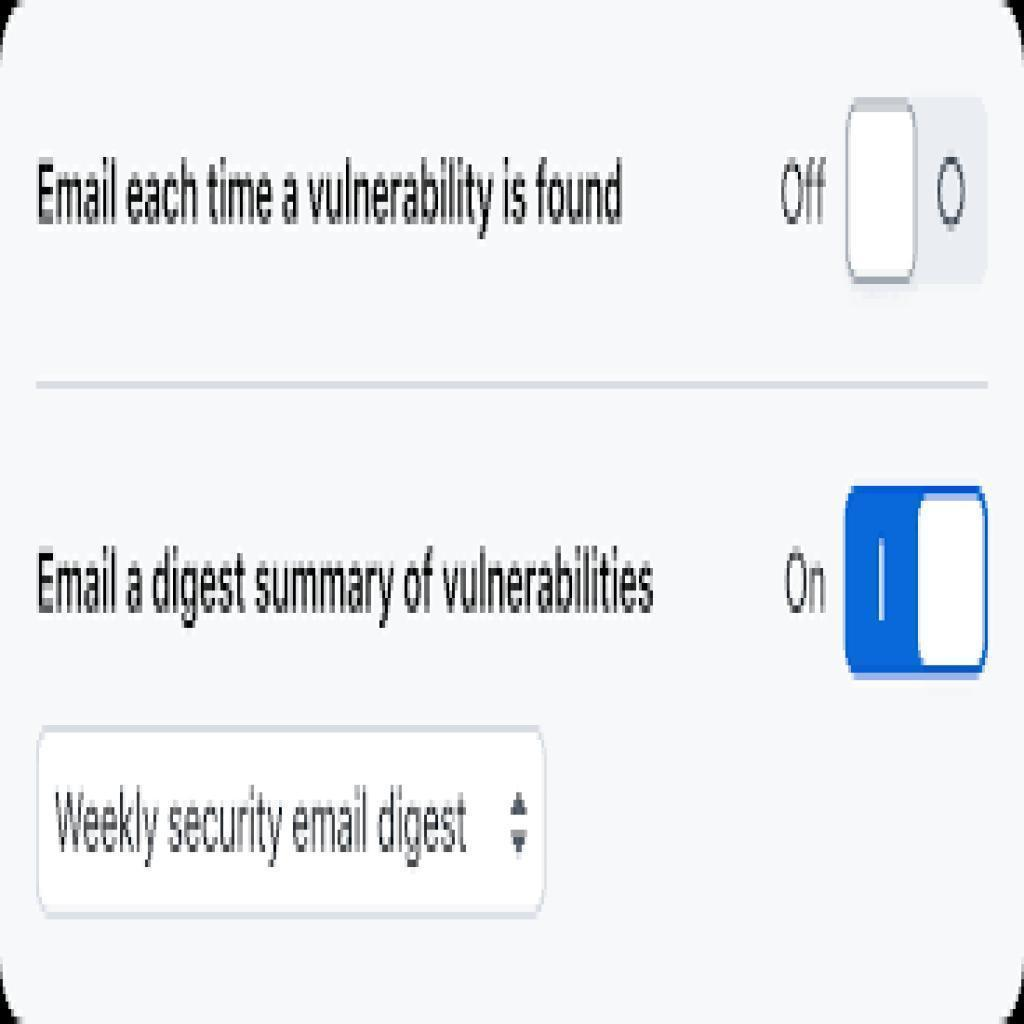icon: (507, 781, 533, 860)
input: (40, 731, 502, 913)
label: (31, 540, 663, 638), (23, 144, 637, 243)
switch: (843, 485, 990, 682), (845, 100, 990, 286)
